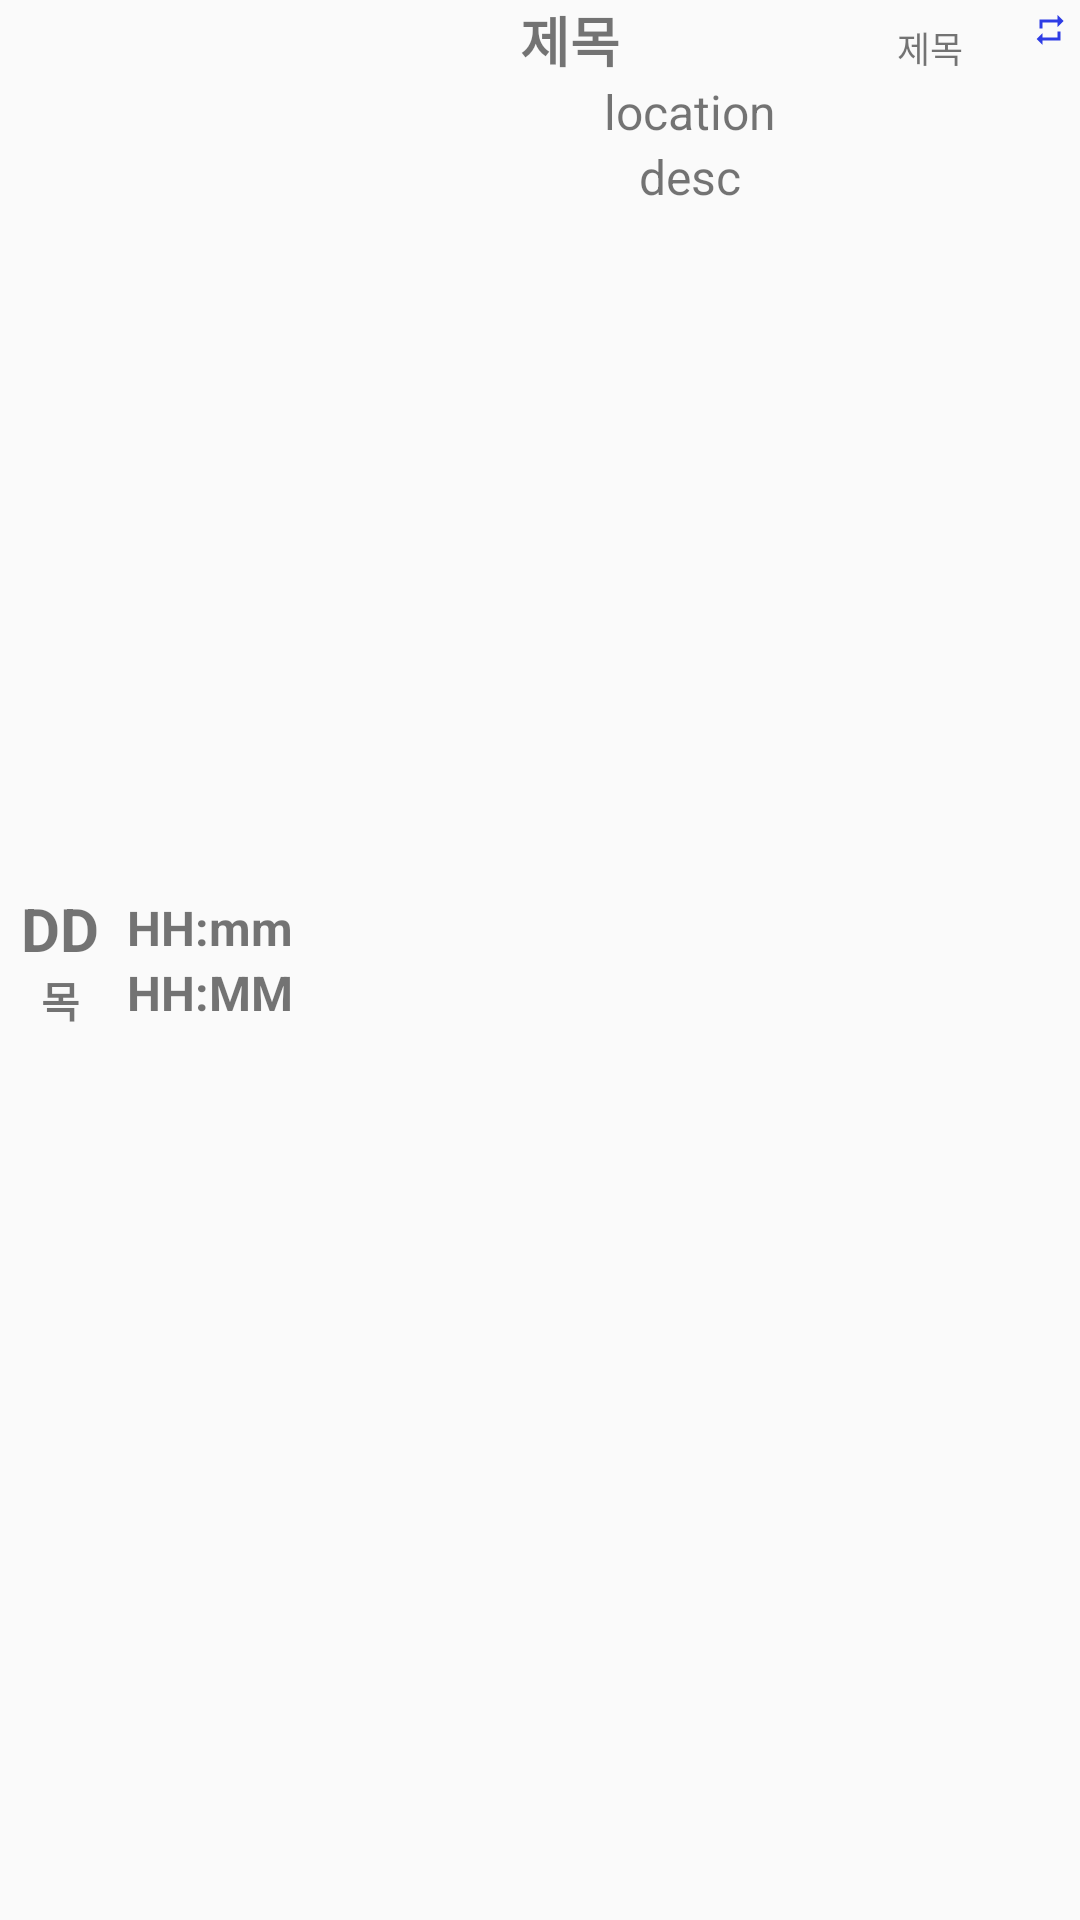

Named icons in this screenshot (1080w x 1920h) and their bounding boxes, (x1, y1, x2, y2):
repeating: (1037, 15, 1064, 45)
